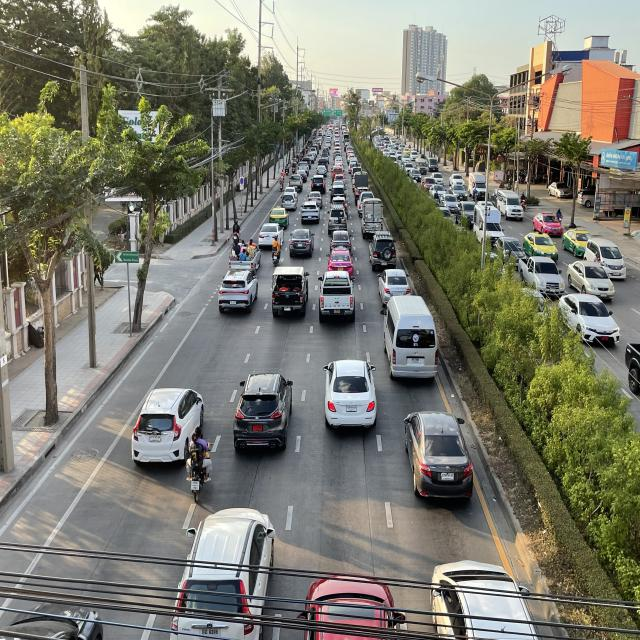bike: (184, 428, 213, 503), (271, 235, 282, 268)
car: (168, 505, 279, 640), (428, 558, 539, 640), (298, 568, 406, 640), (402, 408, 474, 506), (130, 382, 206, 472), (232, 370, 296, 457), (380, 294, 440, 383), (323, 357, 378, 431), (317, 269, 356, 324), (218, 269, 259, 314), (377, 269, 412, 307), (368, 230, 397, 272), (326, 247, 355, 276), (289, 228, 315, 258), (258, 222, 285, 248), (328, 230, 353, 254)
truck: (270, 266, 310, 317), (228, 239, 262, 274), (361, 198, 384, 240)
